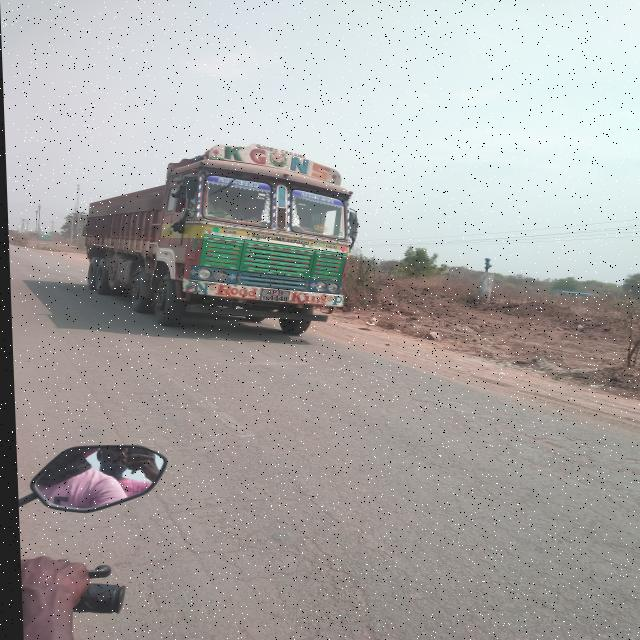plate: (257, 287, 288, 303)
